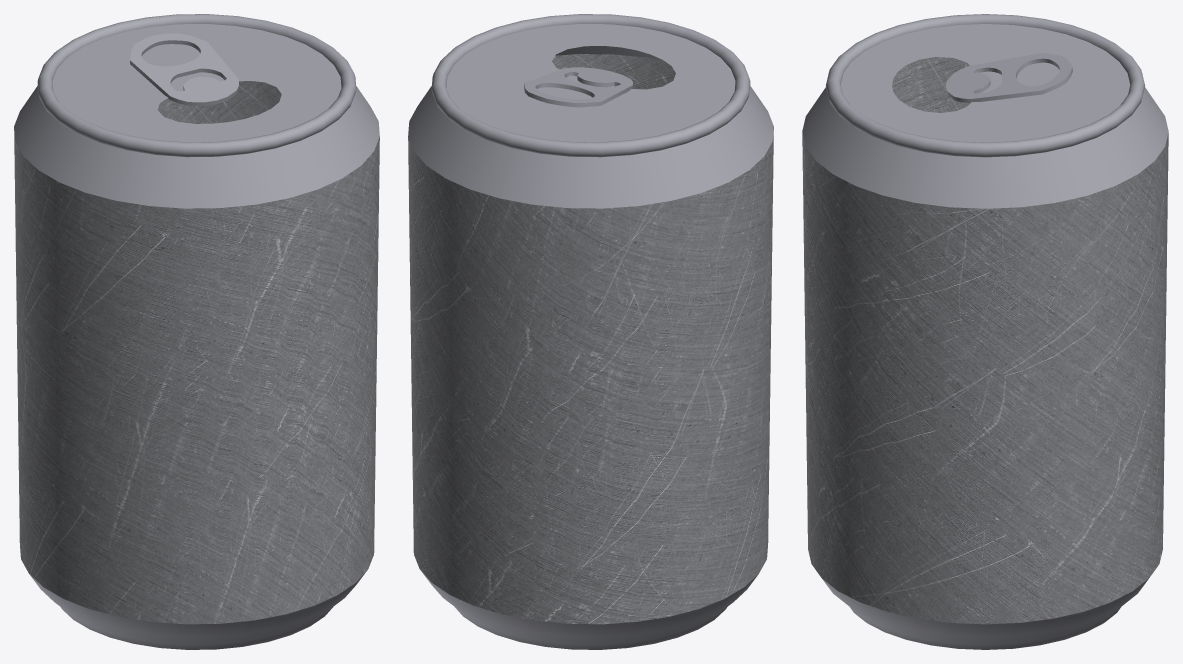
The model's file is LataAluminio.fbx.
The picture shows the model from 3 angles, left to right: view 1: azimuth 30°, elevation 25°; view 2: azimuth 150°, elevation 25°; view 3: azimuth 270°, elevation 25°; orthographic projection.
Parts seen in each view (by area): view 1: Plane.001, Circle.001, Circle, Plane; view 2: Plane.001, Circle.001, Circle, Plane; view 3: Plane.001, Circle.001, Circle, Plane.
Part boxes in pixels (x1=…): Plane.001: x1=14, y1=81, x2=379, y2=649; Circle.001: x1=52, y1=24, x2=341, y2=142; Circle: x1=37, y1=14, x2=356, y2=157; Plane: x1=130, y1=33, x2=238, y2=105; Plane.001: x1=408, y1=46, x2=773, y2=649; Circle.001: x1=446, y1=24, x2=735, y2=142; Circle: x1=431, y1=14, x2=750, y2=157; Plane: x1=524, y1=67, x2=632, y2=107; Plane.001: x1=802, y1=57, x2=1168, y2=649; Circle.001: x1=841, y1=24, x2=1129, y2=142; Circle: x1=826, y1=14, x2=1144, y2=157; Plane: x1=945, y1=53, x2=1072, y2=102.
Size of the model in its own units: 4.92 by 7.75 by 4.92.
Materials: 2 (1 with a texture image).
